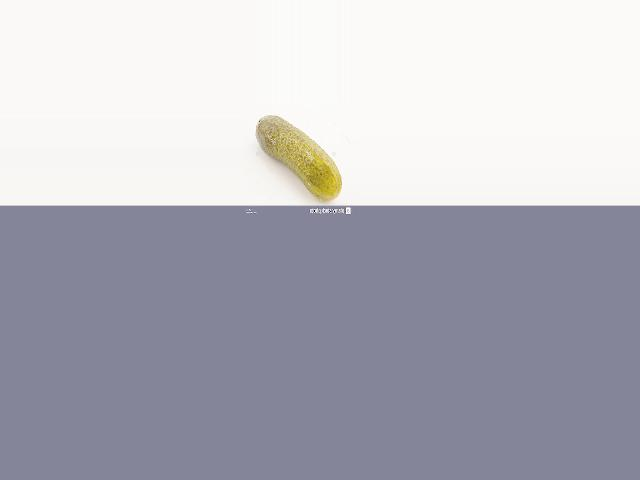cucumber: (255, 116, 341, 201)
